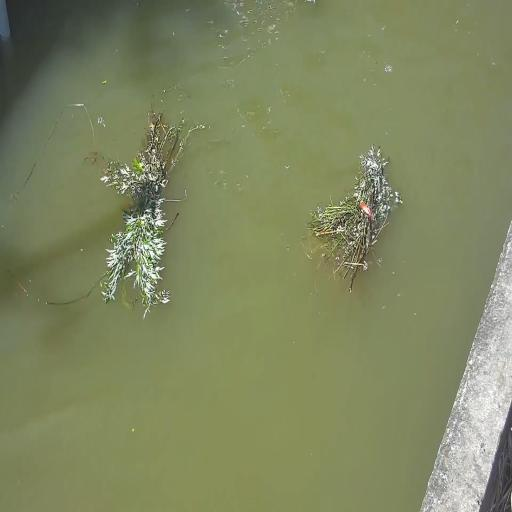twig: (97, 100, 203, 316), (306, 144, 400, 294), (212, 1, 295, 68)
